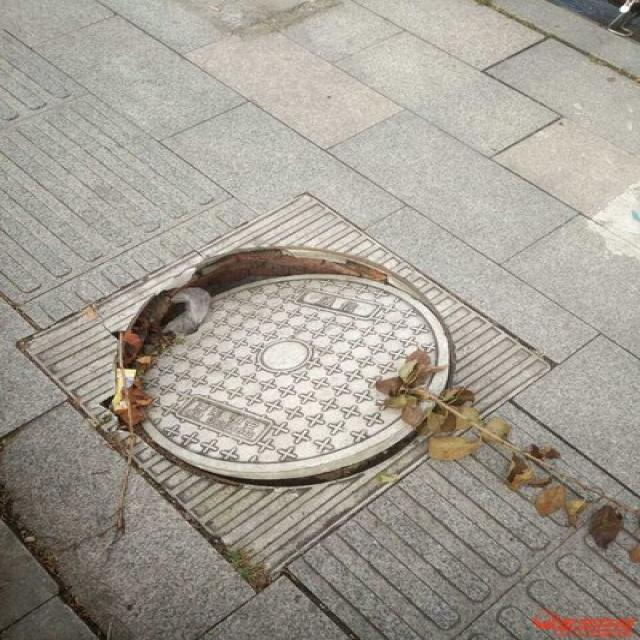manhole: (106, 241, 456, 490)
